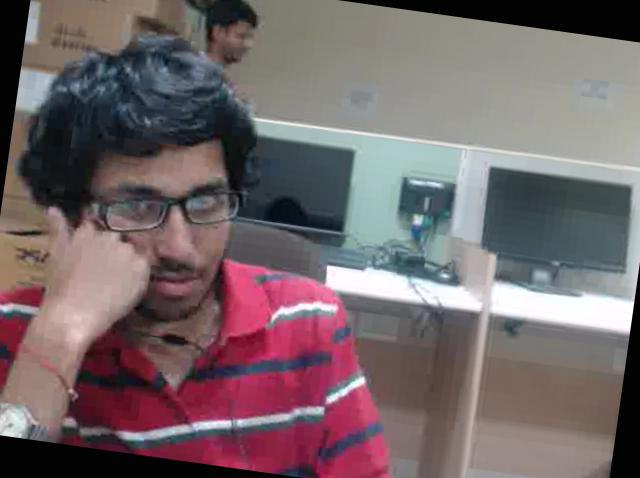bosan: (57, 126, 242, 359)
